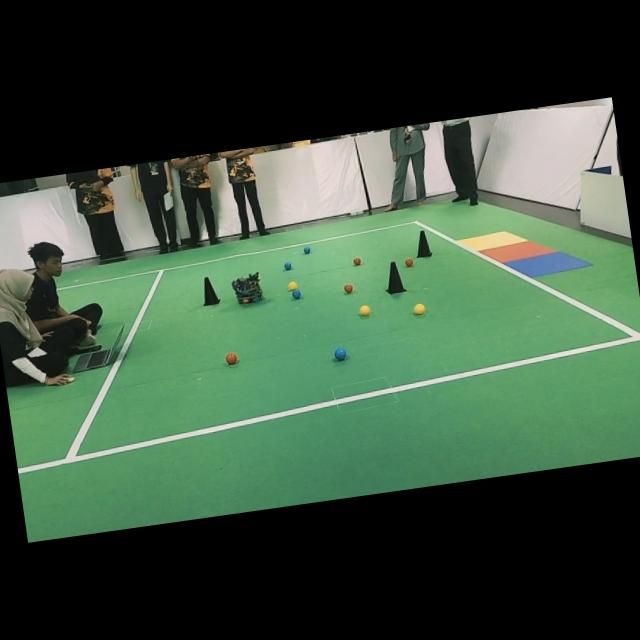ball: (459, 231, 527, 251), (225, 352, 239, 364), (335, 347, 347, 360), (413, 303, 426, 315), (360, 305, 371, 316), (288, 281, 298, 291), (344, 283, 354, 293), (292, 289, 301, 299), (405, 257, 414, 267), (353, 257, 362, 266), (285, 261, 292, 270), (304, 246, 311, 253)
goal: (506, 252, 591, 277), (481, 240, 556, 263)
